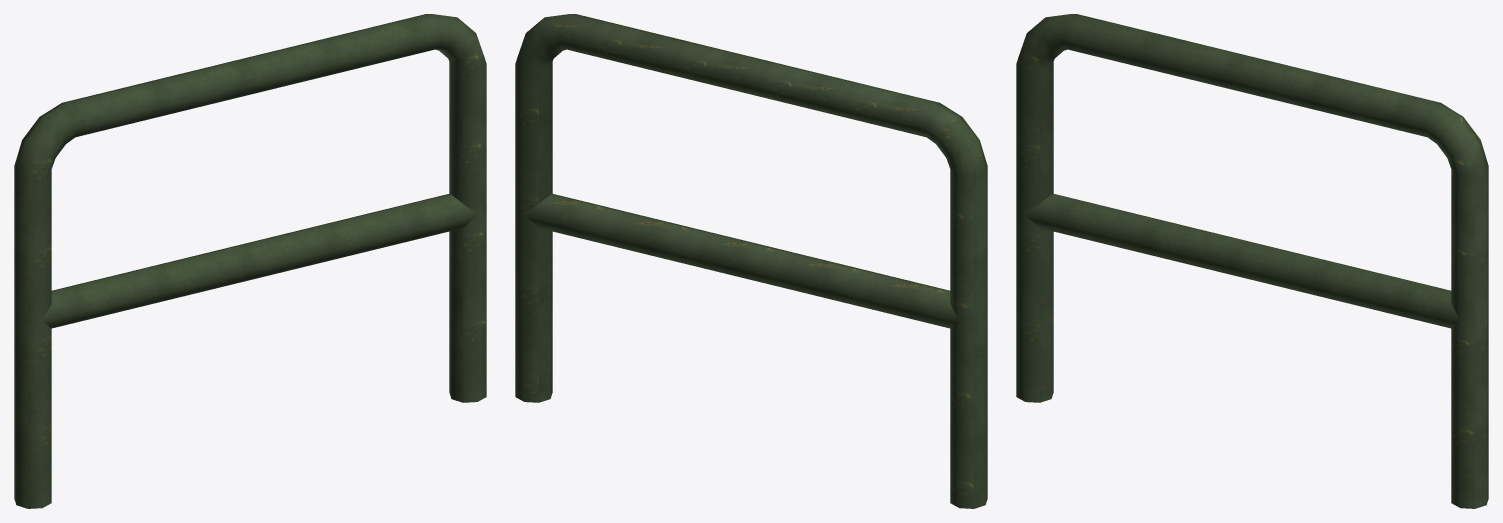
File: railing.glb
The picture shows the model from 3 angles, left to right: view 1: azimuth 30°, elevation 25°; view 2: azimuth 150°, elevation 25°; view 3: azimuth 330°, elevation 25°; orthographic projection.
Parts seen in each view (by area): view 1: railing; view 2: railing; view 3: railing.
Boxes of the visible parts, x1,y1,x2,y2 form: railing: [14, 14, 486, 508]; railing: [515, 14, 987, 508]; railing: [1016, 14, 1488, 508].
Size of the model in its own units: 1.98 by 1.58 by 0.1406.
1 material, 1 textured.
